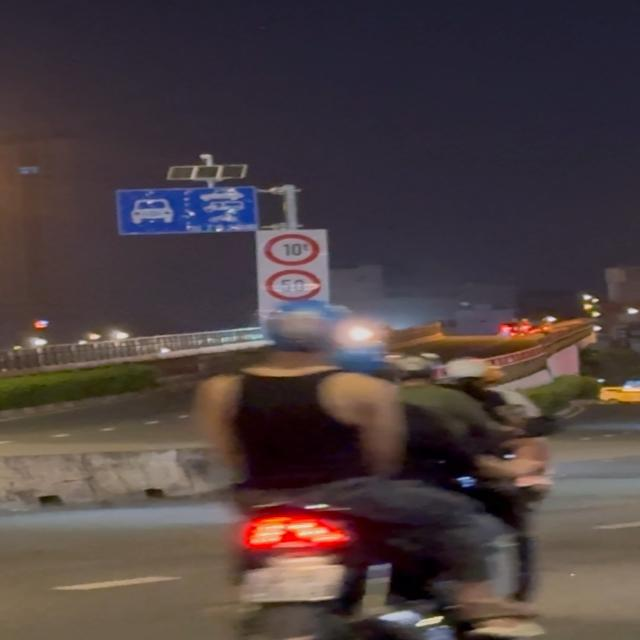Bien bao toc do toi da cho phep: (264, 269, 324, 302)
